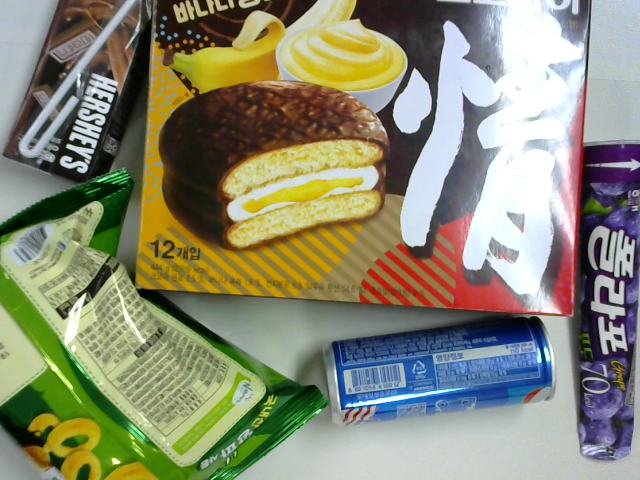Choco_Pie_Banana: (127, 1, 587, 301)
Grilled_Onions: (2, 179, 319, 480)
Hush_Choco_Drink: (3, 1, 154, 193)
Pepsi_Cola_Can_250ml: (322, 324, 559, 415)
Polapo_Grape: (573, 138, 640, 460)
